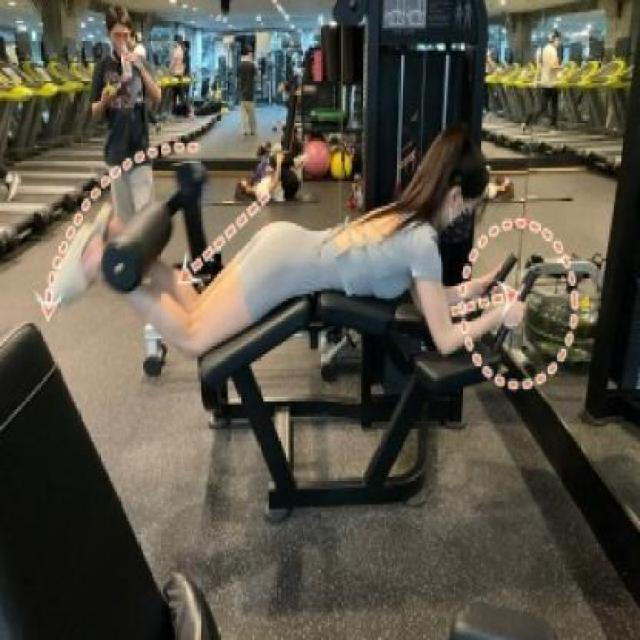reg curl machine: (38, 0, 547, 515)
